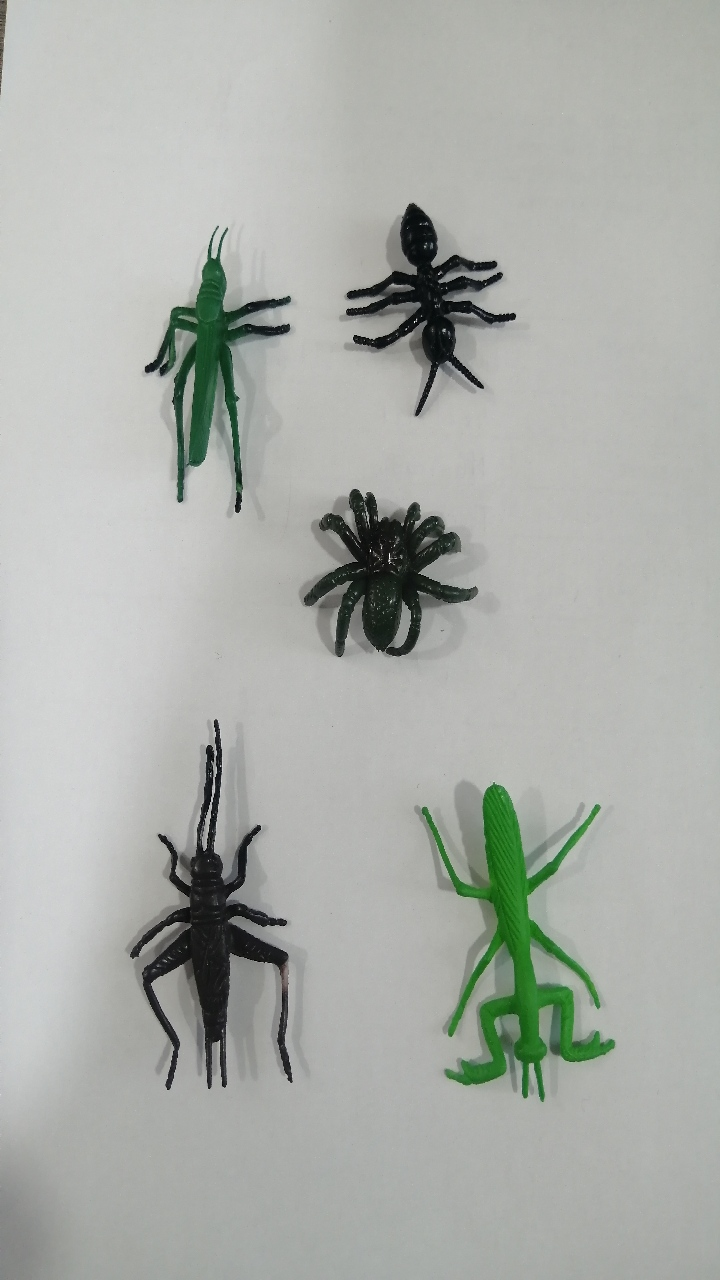intruso: (91, 703, 323, 1123), (374, 737, 615, 1128), (314, 172, 523, 449), (117, 202, 289, 535), (286, 472, 489, 697)
